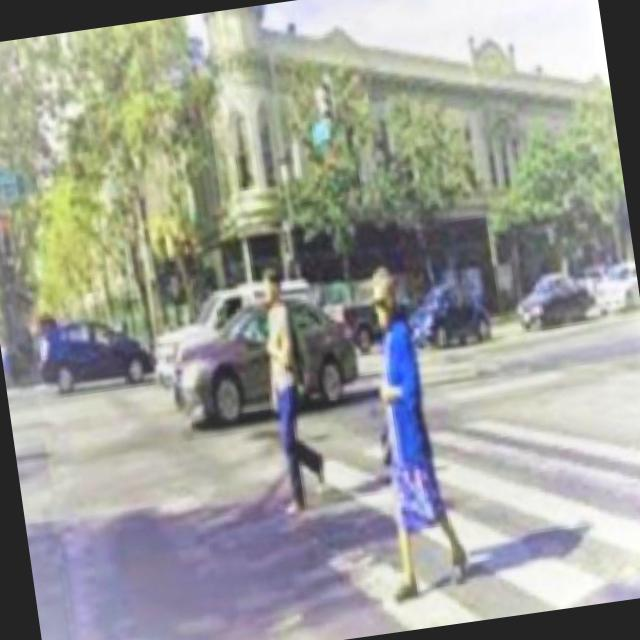Person: (342, 247, 480, 604), (238, 256, 341, 522)
